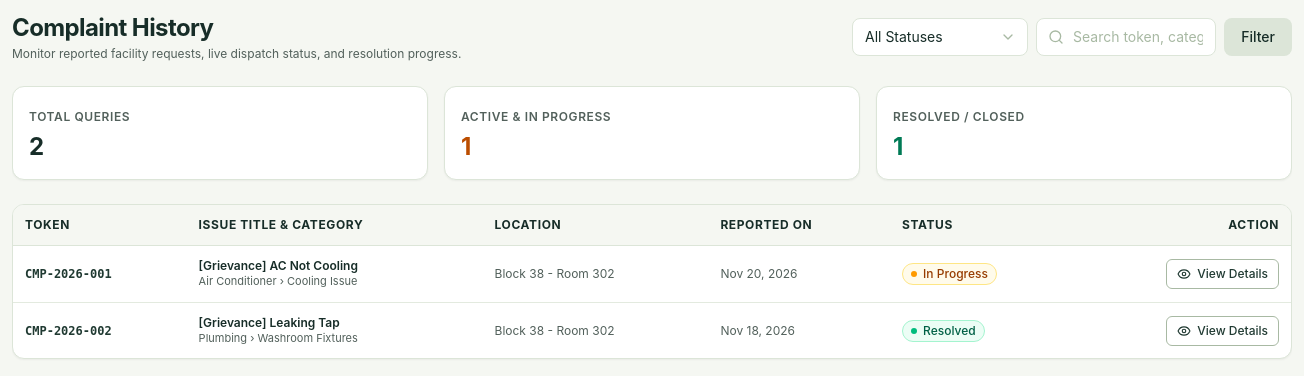
Test: FIPP 2.0 Phase 3 — Student Portal Unit Tests › 4. Student History & Status Progression Timeline › filters complaint records using the status dropdown
Expected: the text "CMP-2026-001" is shown, [13, 246, 187, 302]
Select "Resolved" in the dropdown: (940, 37) [852, 18, 1028, 56]
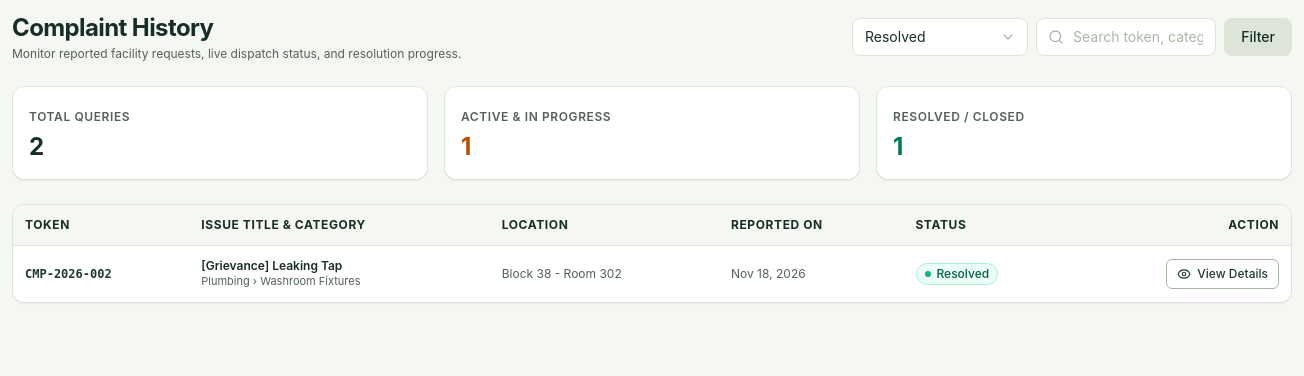
Expected: the text "CMP-2026-002" is shown, [13, 246, 189, 302]
Expected: the text "CMP-2026-001" is gone
